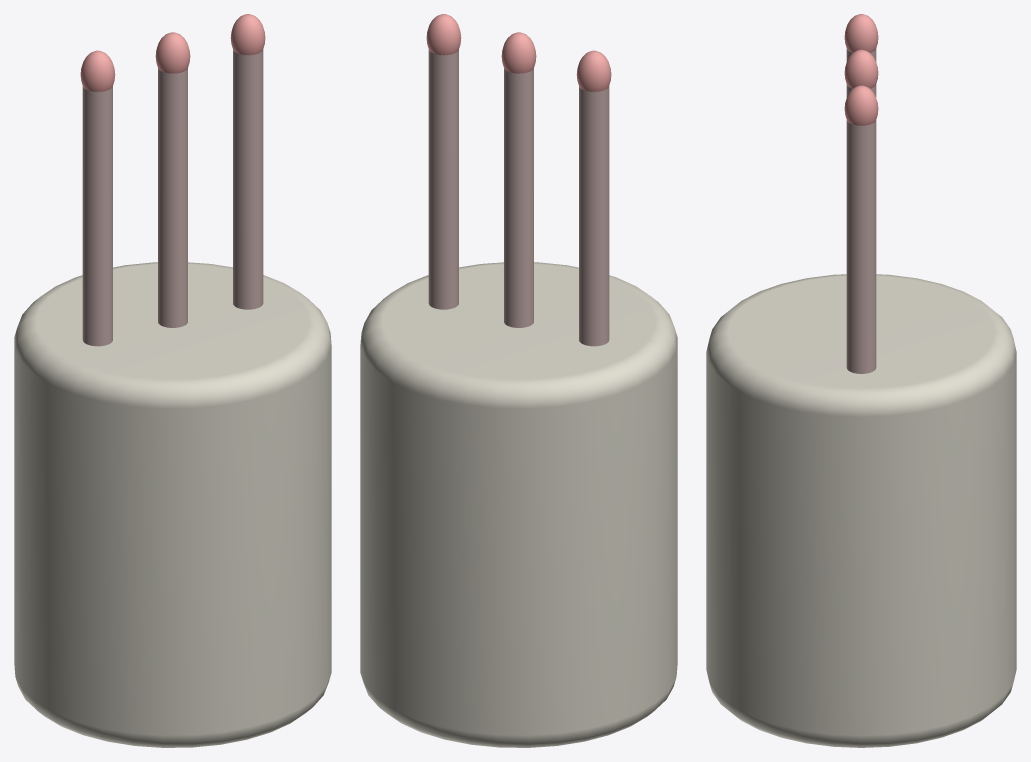
Rendered from officePencilHolder.glb.
The picture shows the model from 3 angles, left to right: view 1: azimuth 30°, elevation 25°; view 2: azimuth 150°, elevation 25°; view 3: azimuth 270°, elevation 25°; orthographic projection. The views are drawn at different scales.
Parts seen in each view (by area): view 1: Pencil cup, Pencil.002, Pencil, Pencil.001, Eraser, Eraser.001, Eraser.002; view 2: Pencil cup, Pencil.002, Pencil, Pencil.001, Eraser, Eraser.001, Eraser.002; view 3: Pencil cup, Pencil.002, Eraser.002, Eraser.001, Eraser.
Part boxes in pixels (box(x1,y1,x2,y2)): Pencil cup: box(14, 262, 331, 747); Pencil.002: box(233, 49, 263, 309); Pencil: box(82, 86, 112, 346); Pencil.001: box(158, 68, 187, 327); Eraser: box(80, 50, 115, 91); Eraser.001: box(155, 32, 190, 73); Eraser.002: box(230, 14, 265, 55); Pencil cup: box(360, 262, 677, 747); Pencil.002: box(428, 49, 458, 309); Pencil: box(579, 86, 609, 346); Pencil.001: box(504, 68, 533, 327); Eraser: box(576, 50, 611, 91); Eraser.001: box(501, 32, 536, 73); Eraser.002: box(426, 14, 461, 55); Pencil cup: box(706, 274, 1016, 747); Pencil.002: box(846, 120, 876, 373); Eraser.002: box(844, 85, 878, 125); Eraser.001: box(844, 49, 878, 88); Eraser: box(844, 14, 878, 52).
Size of the model in its own units: 0.44 by 1 by 0.44.
